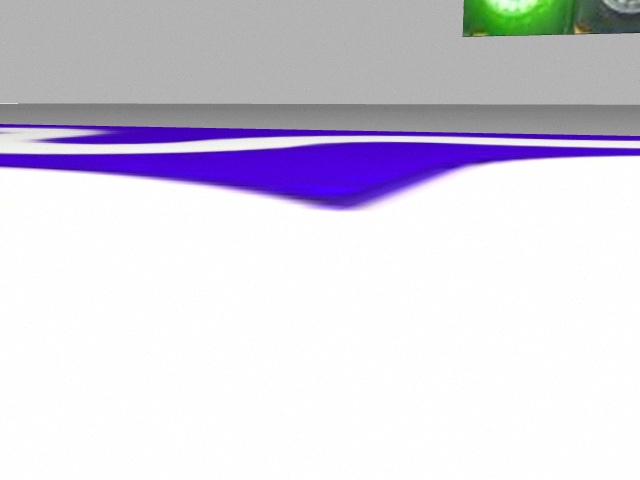green: (464, 2, 574, 34)
